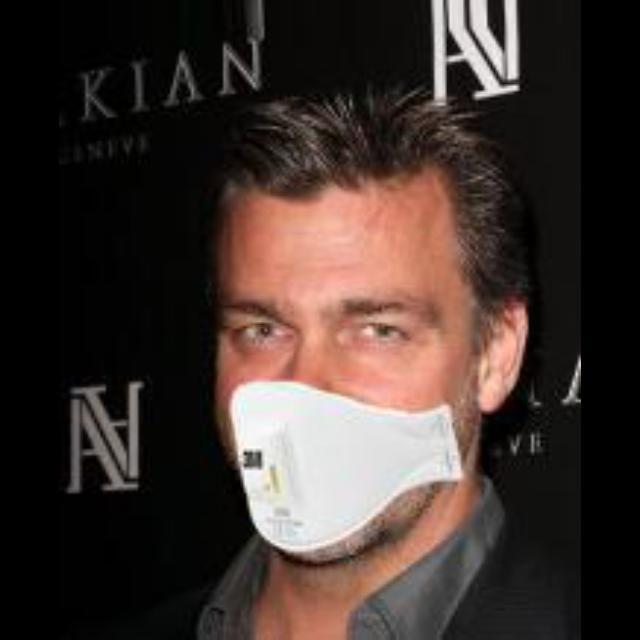suspicion: (187, 106, 577, 568)
